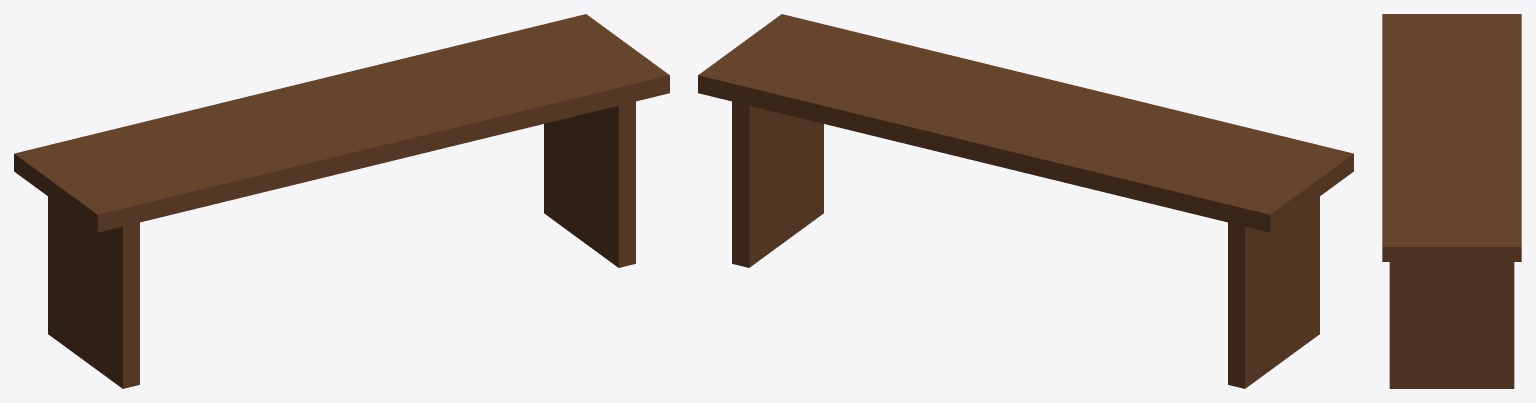
File: furniture.seat.bench_3.glb
3 views of the same model, side by side, from view 1: azimuth 30°, elevation 25°; view 2: azimuth 150°, elevation 25°; view 3: azimuth 270°, elevation 25° (orthographic). The views are drawn at different scales.
Parts seen in each view (by area): view 1: main__hardwood; view 2: main__hardwood; view 3: main__hardwood.
Part boxes in pixels (left/top/right/bottom): main__hardwood: left=14, top=14, right=669, bottom=388; main__hardwood: left=698, top=14, right=1353, bottom=388; main__hardwood: left=1382, top=14, right=1521, bottom=388.
Size of the model in its own units: 1.5 by 0.4625 by 0.38.
